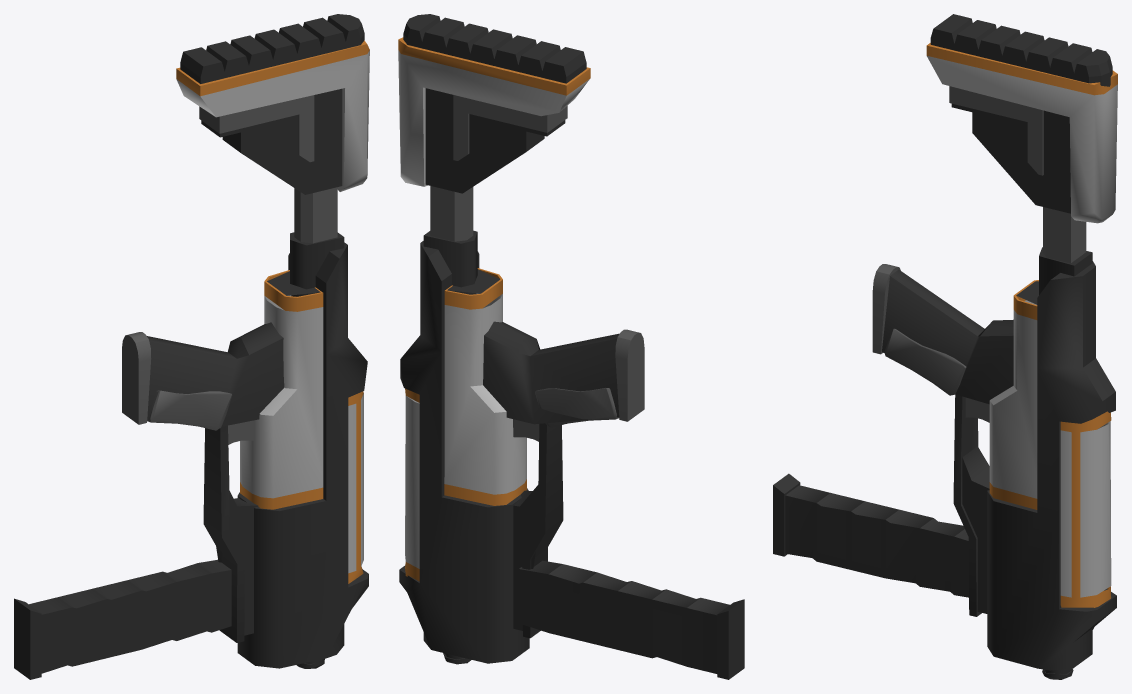
Rendered from qg-smg-1-lod2.glb.
The picture shows the model from 3 angles, left to right: view 1: azimuth 30°, elevation 25°; view 2: azimuth 150°, elevation 25°; view 3: azimuth 330°, elevation 25°; orthographic projection.
Visible parts, largest first — view 1: WeaponMesh_qg-smg-1_SMG_1, WeaponMesh_qg-smg-1_Magazine_SMG; view 2: WeaponMesh_qg-smg-1_SMG_1, WeaponMesh_qg-smg-1_Magazine_SMG; view 3: WeaponMesh_qg-smg-1_SMG_1, WeaponMesh_qg-smg-1_Magazine_SMG.
Part boxes in pixels (box(x1,y1,x2,y2)): WeaponMesh_qg-smg-1_SMG_1: box(122, 14, 369, 668); WeaponMesh_qg-smg-1_Magazine_SMG: box(14, 559, 231, 679); WeaponMesh_qg-smg-1_SMG_1: box(398, 14, 644, 664); WeaponMesh_qg-smg-1_Magazine_SMG: box(518, 560, 744, 679); WeaponMesh_qg-smg-1_SMG_1: box(872, 14, 1117, 679); WeaponMesh_qg-smg-1_Magazine_SMG: box(773, 473, 968, 597).
Size of the model in its own units: 0.4357 by 0.78 by 0.0847.
